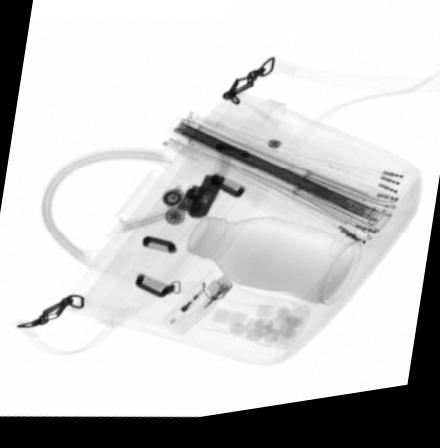Lighter: (162, 273, 234, 342)
